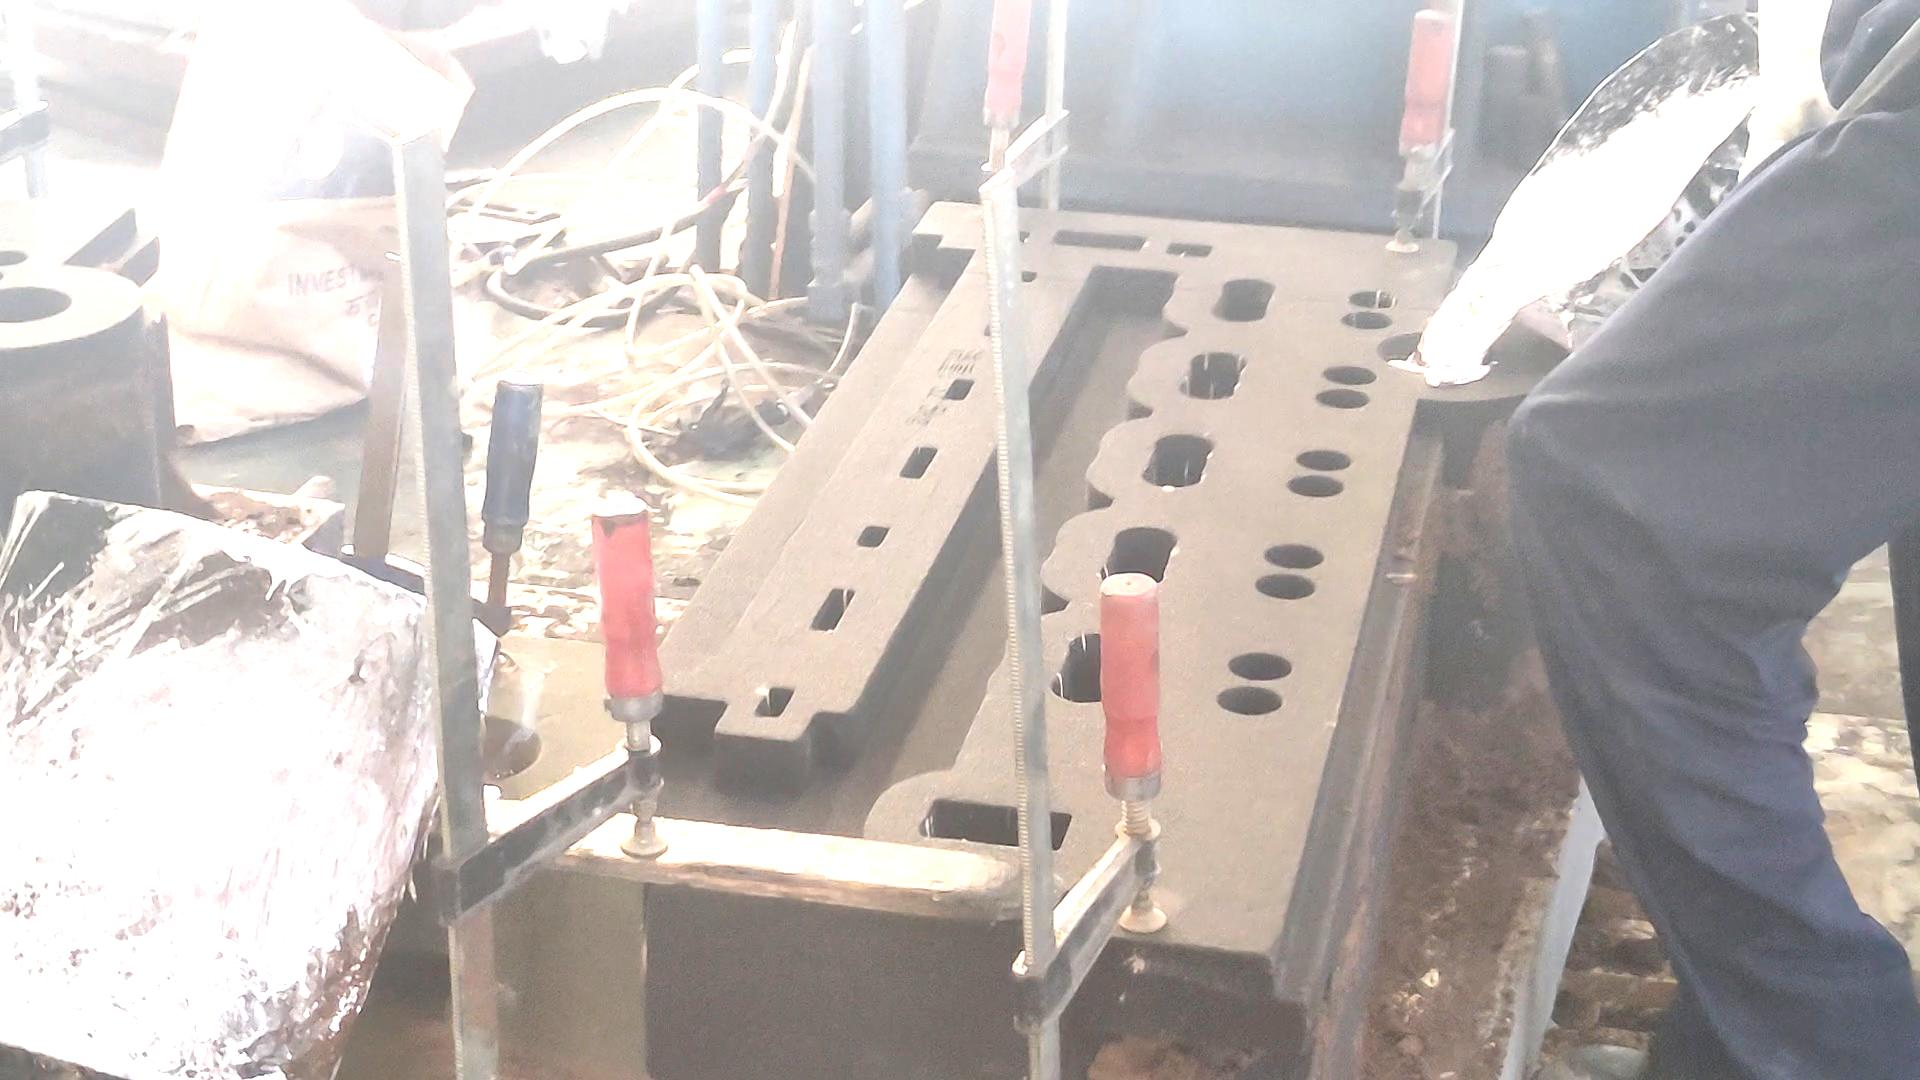pouring hole: (419, 709, 543, 789), (1375, 326, 1499, 376), (1, 284, 74, 326)
